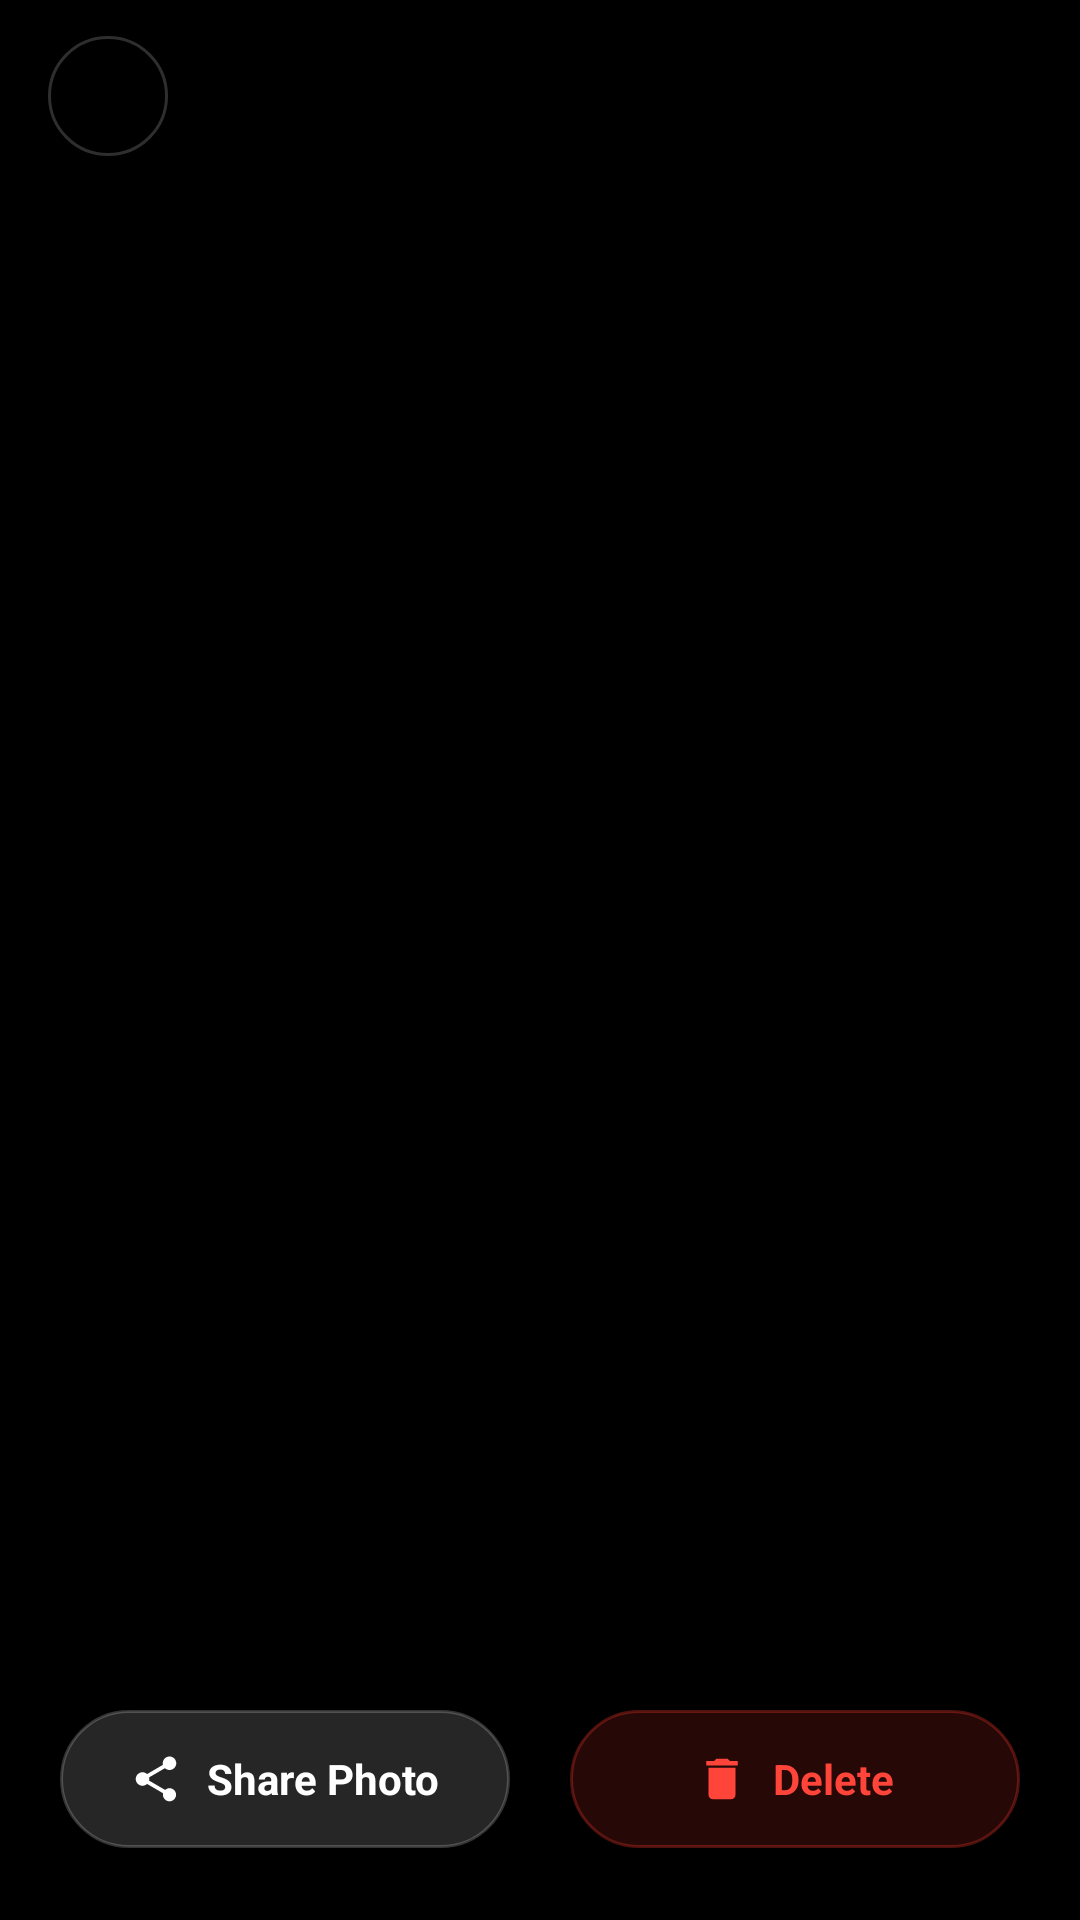

Screen size 1080×1920. Icon name, then its box in pixels as (x1, y1, x2, y2):
gallery share: (135, 1756, 177, 1802)
gallery trash: (706, 1758, 738, 1800)
